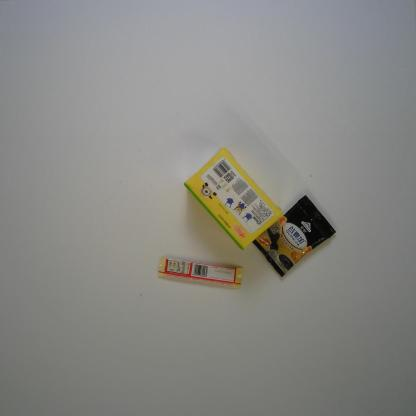Chocolate: (157, 256, 244, 288)
Instant Drink: (251, 193, 338, 279)
Tissue: (183, 146, 284, 252)
